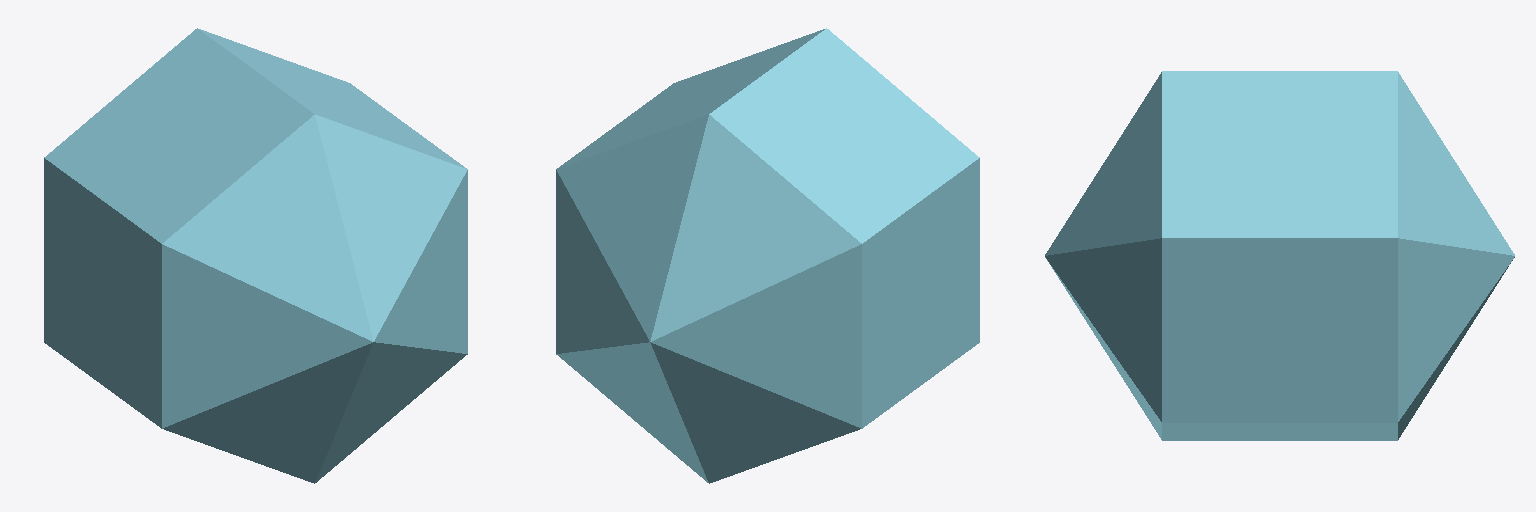
File: sphereLowPoly.obj
The picture shows the model from 3 angles: view 1: azimuth 30°, elevation 25°; view 2: azimuth 150°, elevation 25°; view 3: azimuth 270°, elevation 25°; orthographic projection.
Visible parts, largest first — view 1: Sphere001; view 2: Sphere001; view 3: Sphere001.
Part boxes in pixels (left/top/right/bottom): Sphere001: left=44, top=28, right=467, bottom=483; Sphere001: left=556, top=28, right=979, bottom=483; Sphere001: left=1045, top=71, right=1514, bottom=440.
Size of the model in its own units: 35.72 by 41.25 by 47.63.